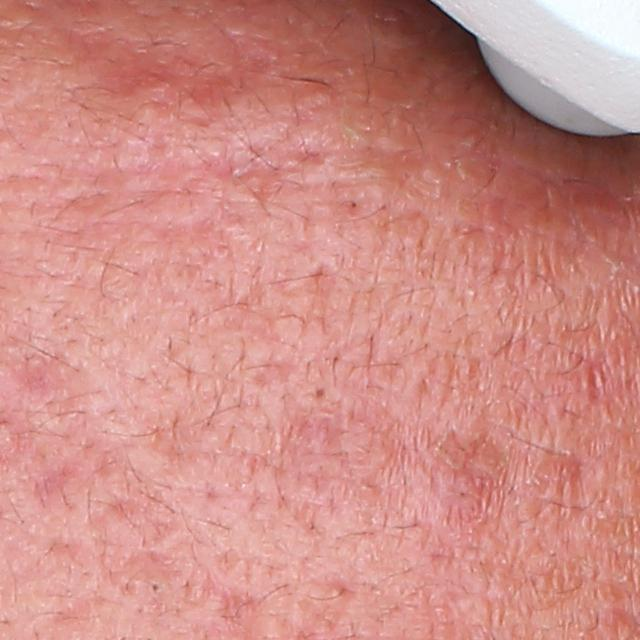atrophic_scar: (48, 17, 300, 115), (197, 573, 260, 623)
comedo: (312, 383, 332, 404), (147, 579, 164, 596)
